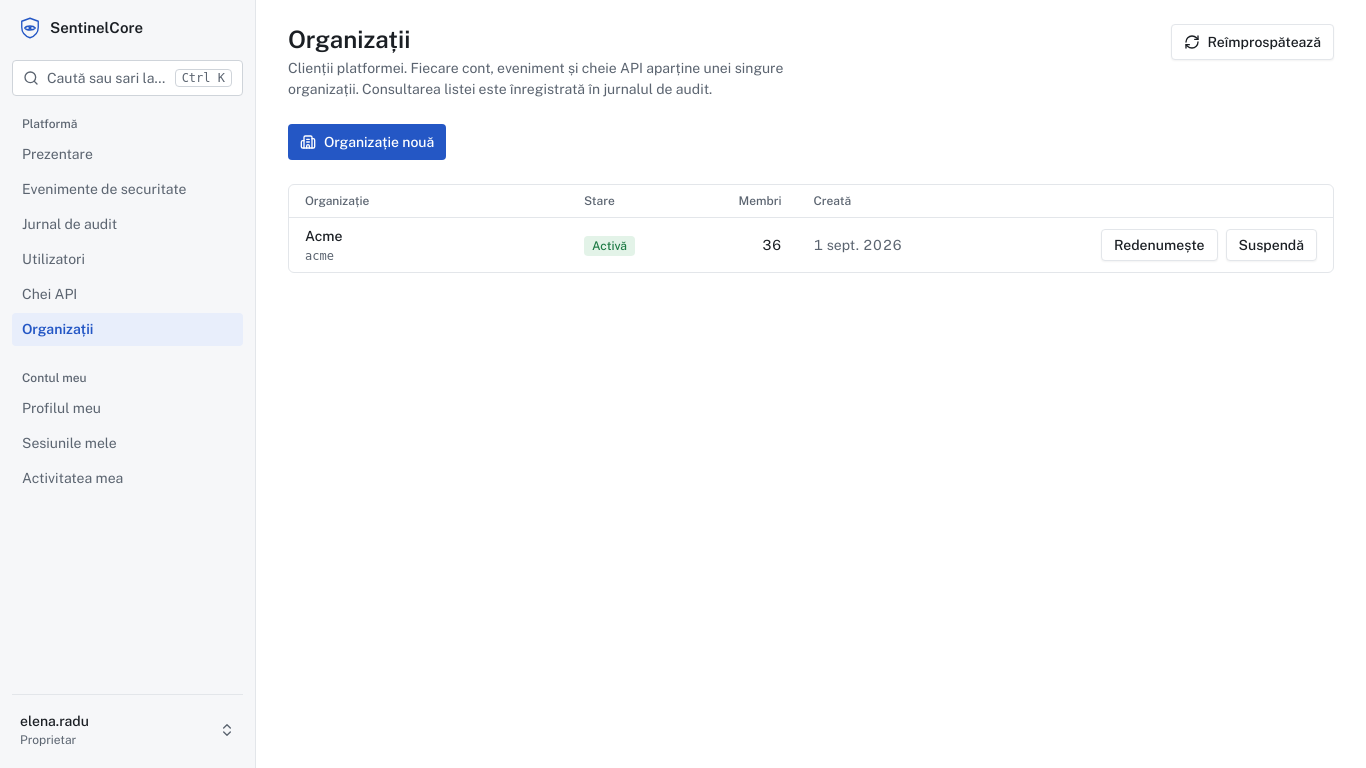
Test: organizations page › renames an organization, keeping its slug
This screenshot has width=1366, height=768.
Click the button with aria-label "Redenumește Acme" at (1159, 245), box [1101,229,1218,261]
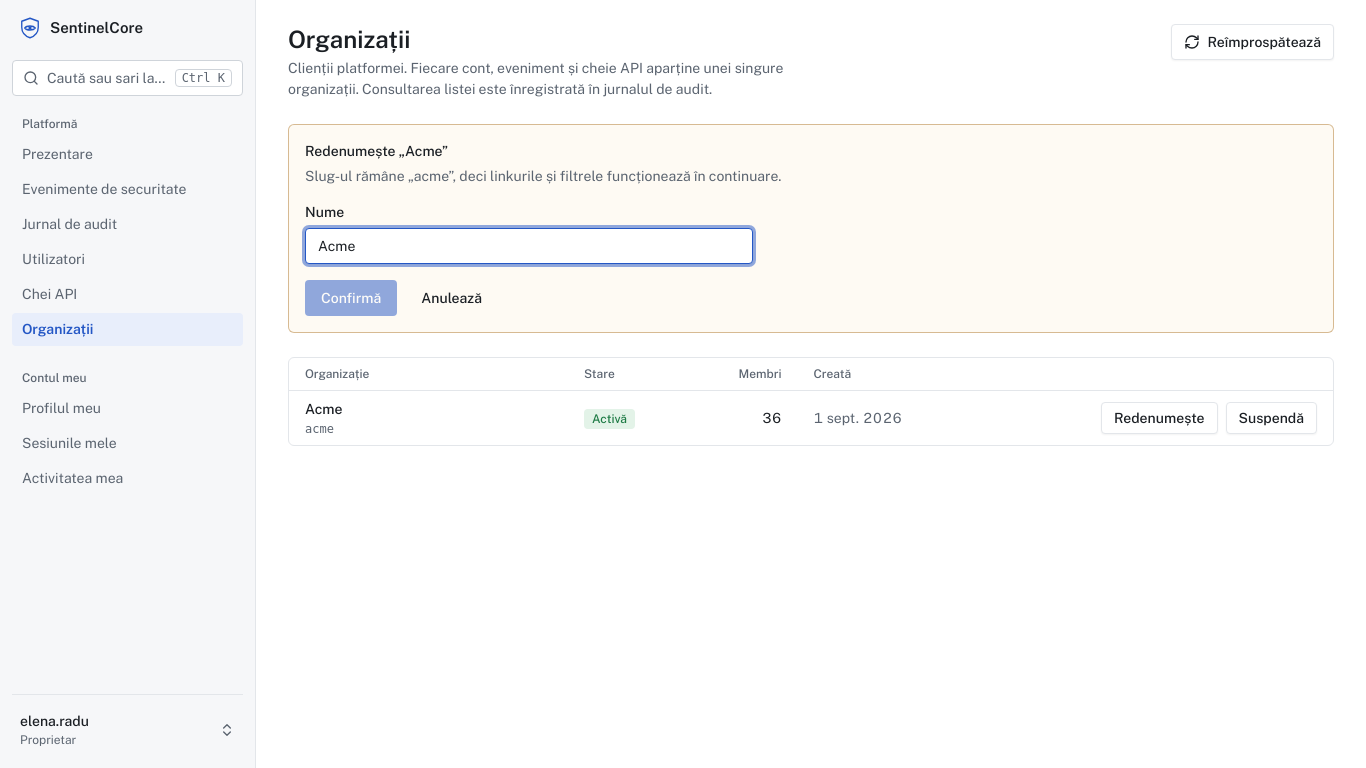
Check: the text "Slug-ul rămâne „acme”" is shown, box [305,168,782,184]
Check: the button "Confirmă" is disabled, box [305,280,397,316]
Replace the text in the field labelled "Nume" with "Acme Corp" at (529, 246), box [305,228,753,264]
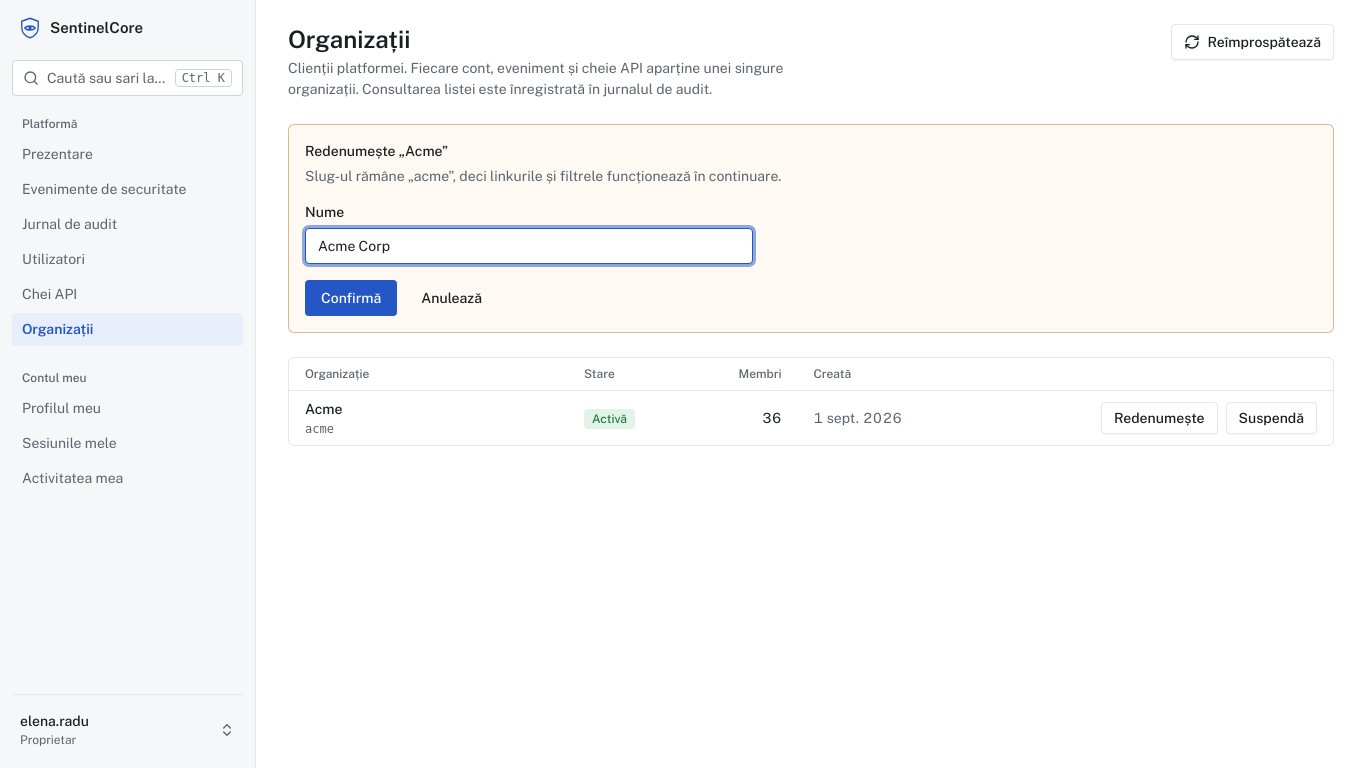
Click the button "Confirmă" at (351, 298), box [305,280,397,316]
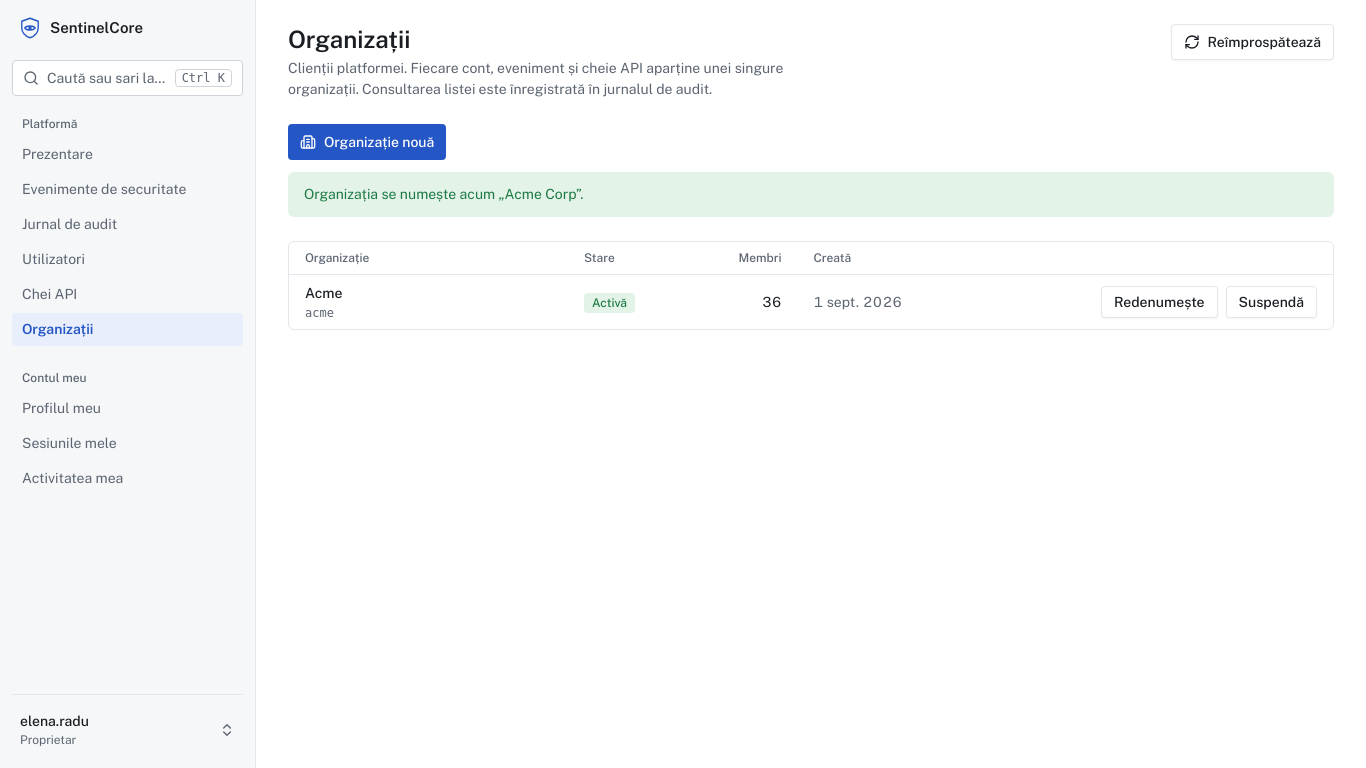
Check: the message reads "Organizația se numește acum „Acme Corp”.", box [304,186,583,202]
